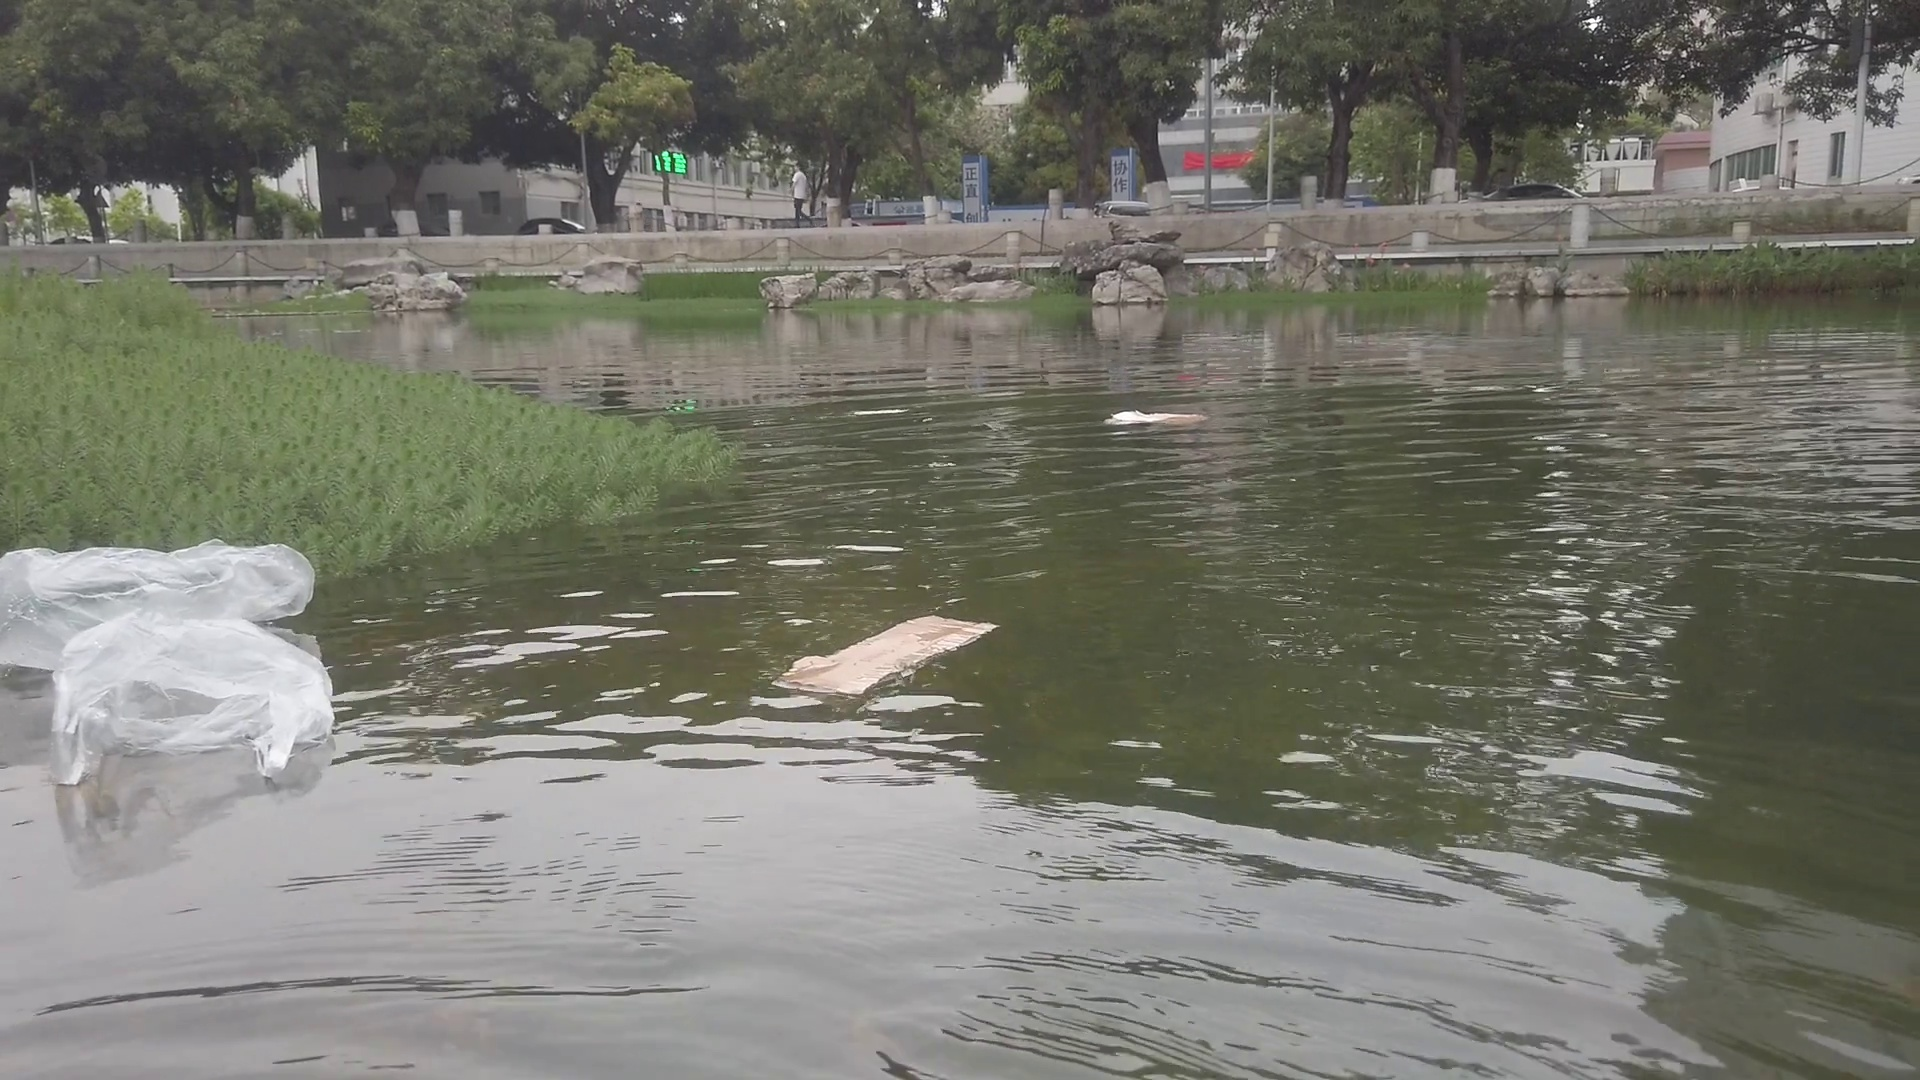paper: (783, 611, 984, 702), (1113, 409, 1208, 427)
plastic: (51, 624, 334, 773), (7, 547, 315, 640)
